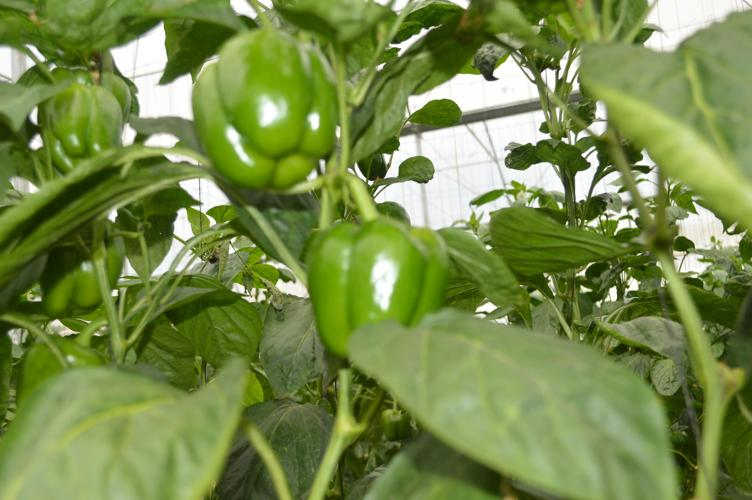BellPepper: (188, 28, 348, 194), (302, 221, 459, 363), (27, 236, 125, 316), (35, 88, 120, 165)
